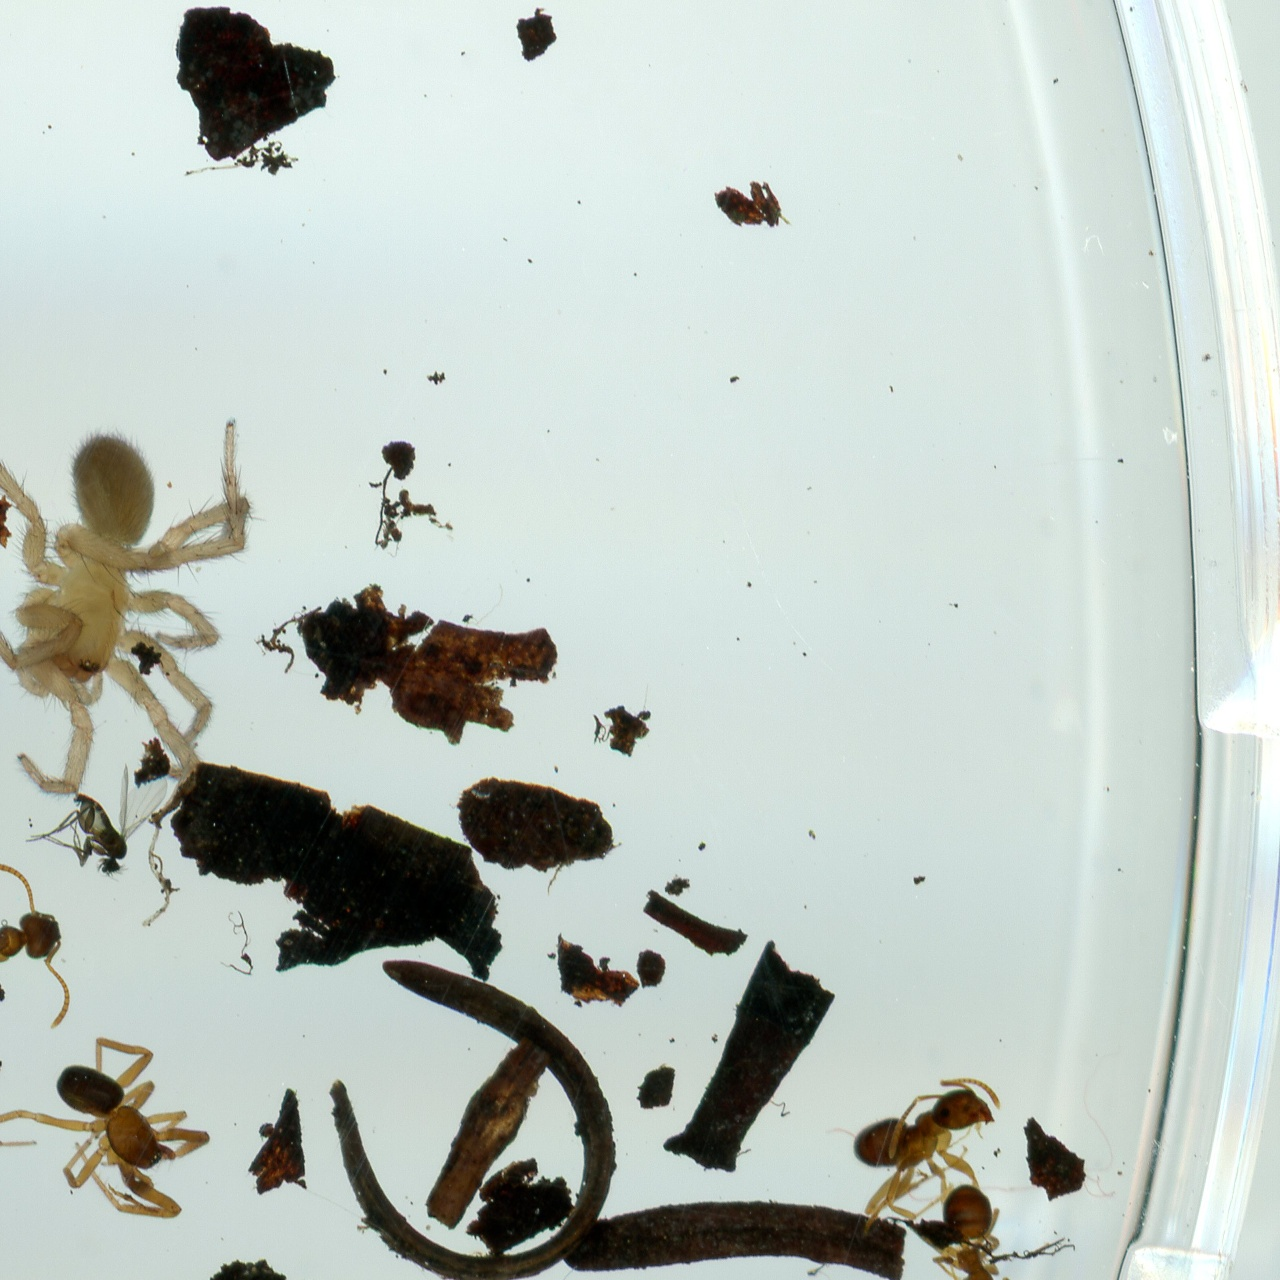arthropod: (0, 416, 249, 786), (0, 1038, 215, 1224), (854, 1075, 1003, 1231), (28, 766, 174, 868), (0, 859, 74, 1029), (909, 1185, 1031, 1280)
